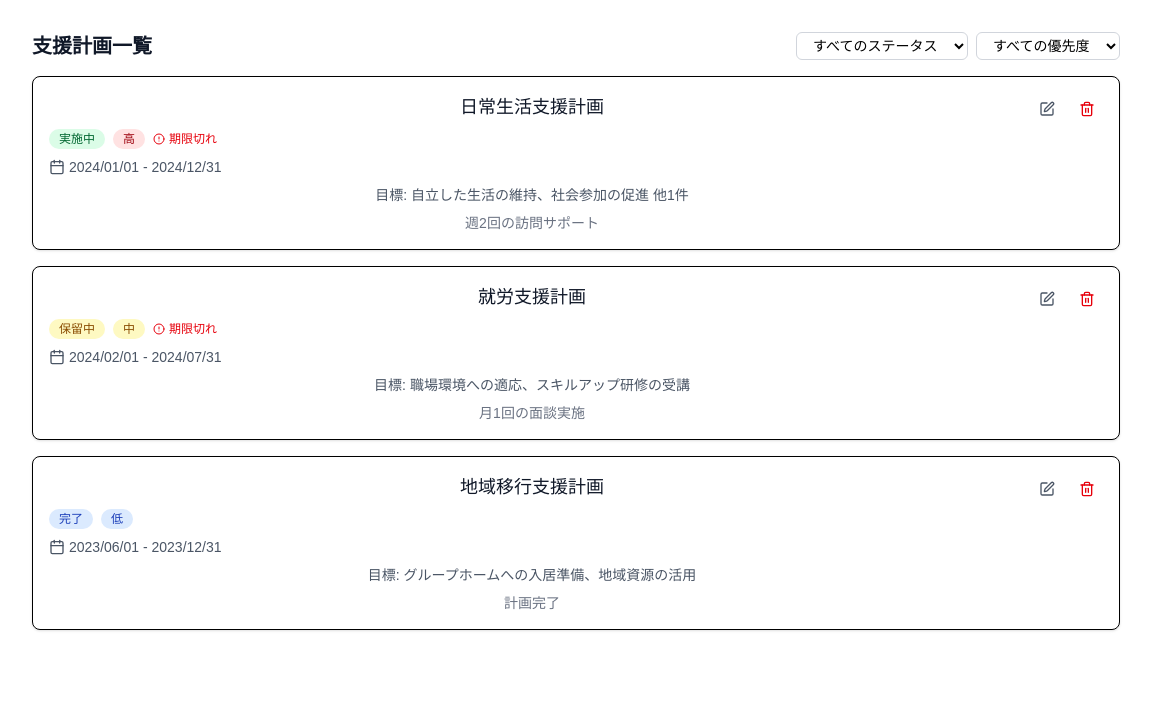
it: SupportPlanList › フィルタリング・ソート › 優先度でフィルタリングできる
The width and height of the screenshot is (1152, 720).
Select "高" in the dropdown named "優先度". click: (1048, 46)
box: [976, 32, 1120, 60]
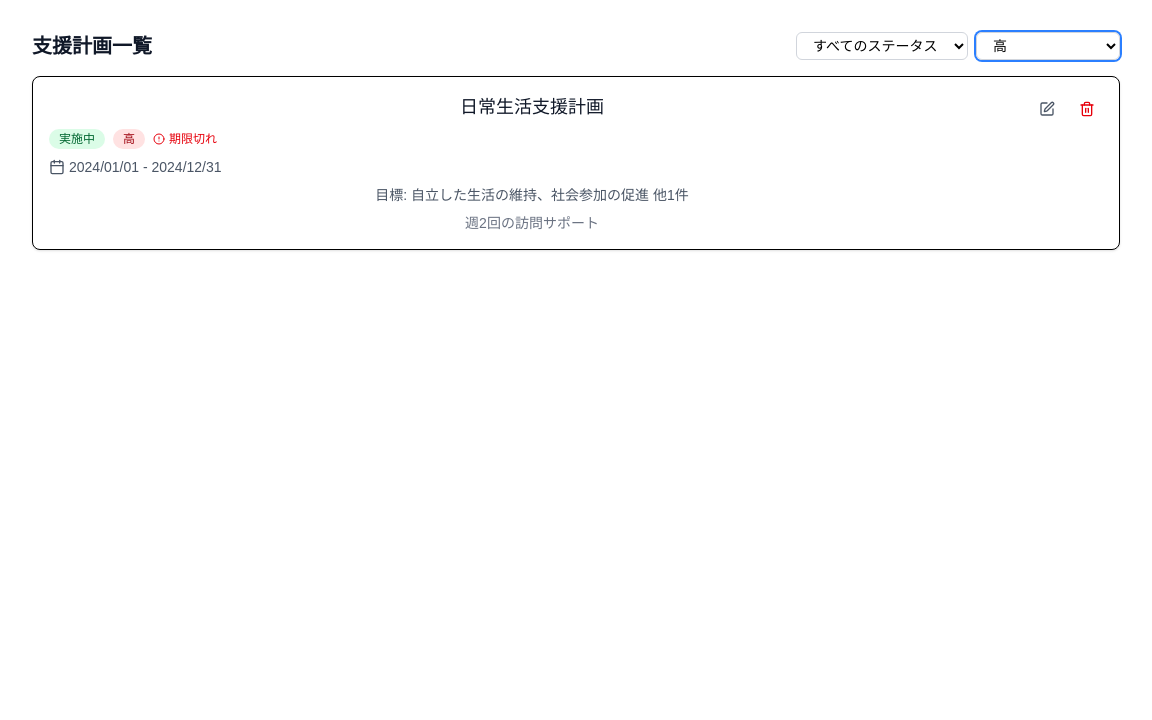
Expected: the link "日常生活支援計画" is shown, [460, 97, 604, 117]
Now the link "就労支援計画" is gone
Now the link "地域移行支援計画" is gone
